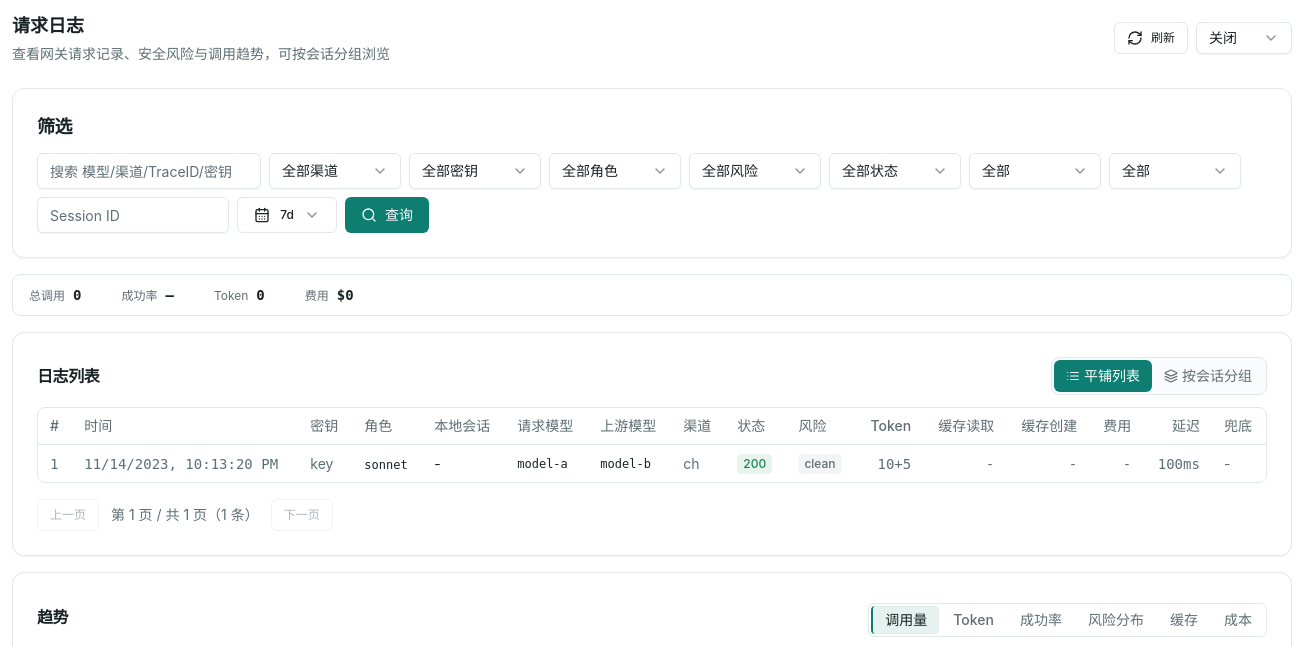
Test case: LogsPage › 切换回平铺列表视图
Click the button "按会话分组": click(1208, 376) [1152,360,1264,392]
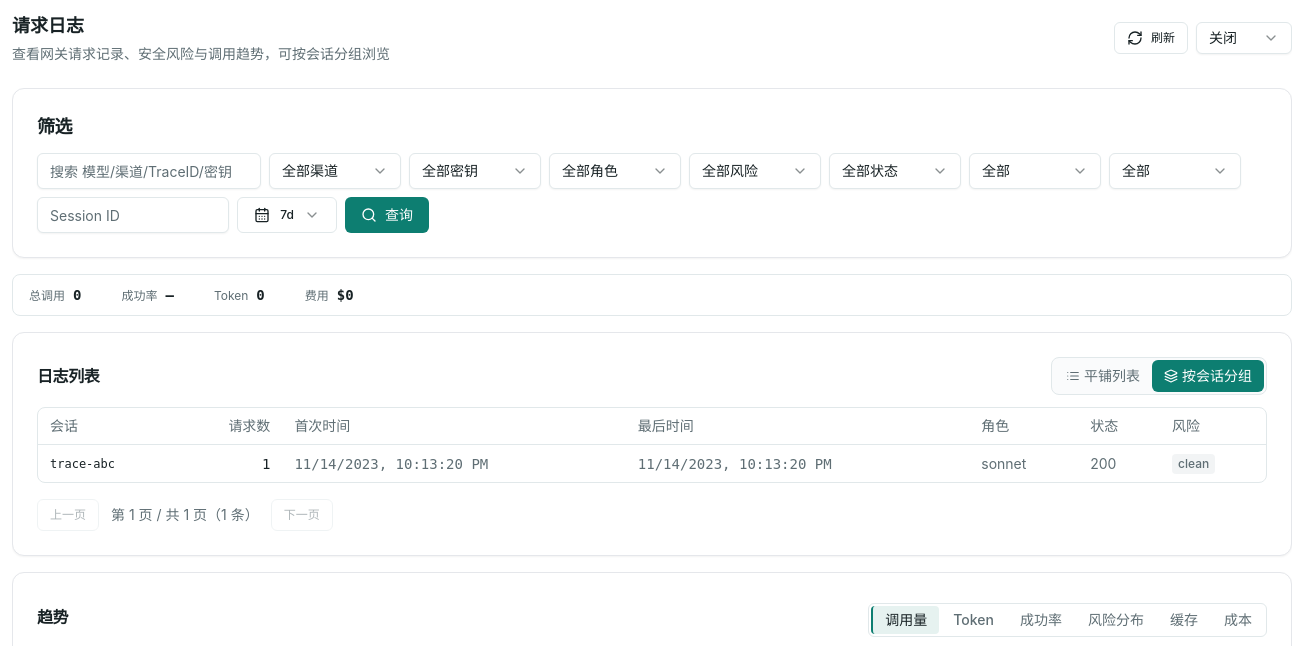
expect the text "trace-abc" is shown: met, box [50,456,115,472]
Click the button "平铺列表": click(1103, 376) [1054,360,1152,392]
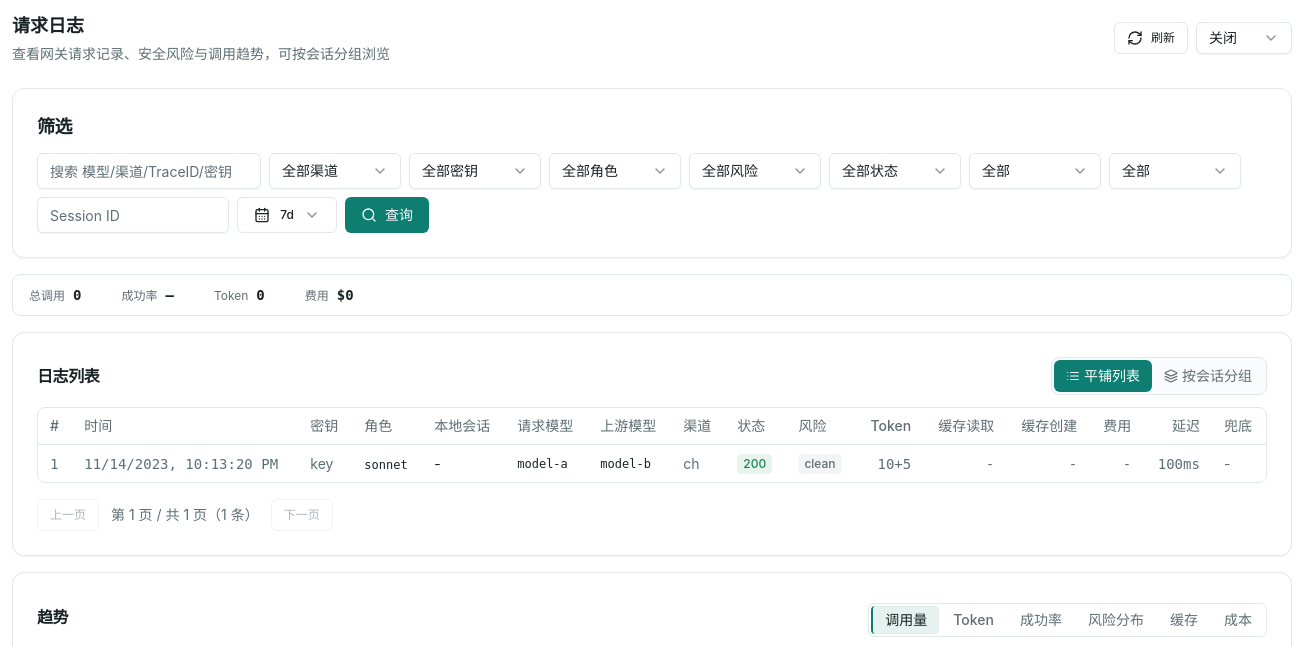
expect the text "trace-abc" is gone: met
